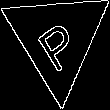P_NW: (30, 8, 84, 71)
